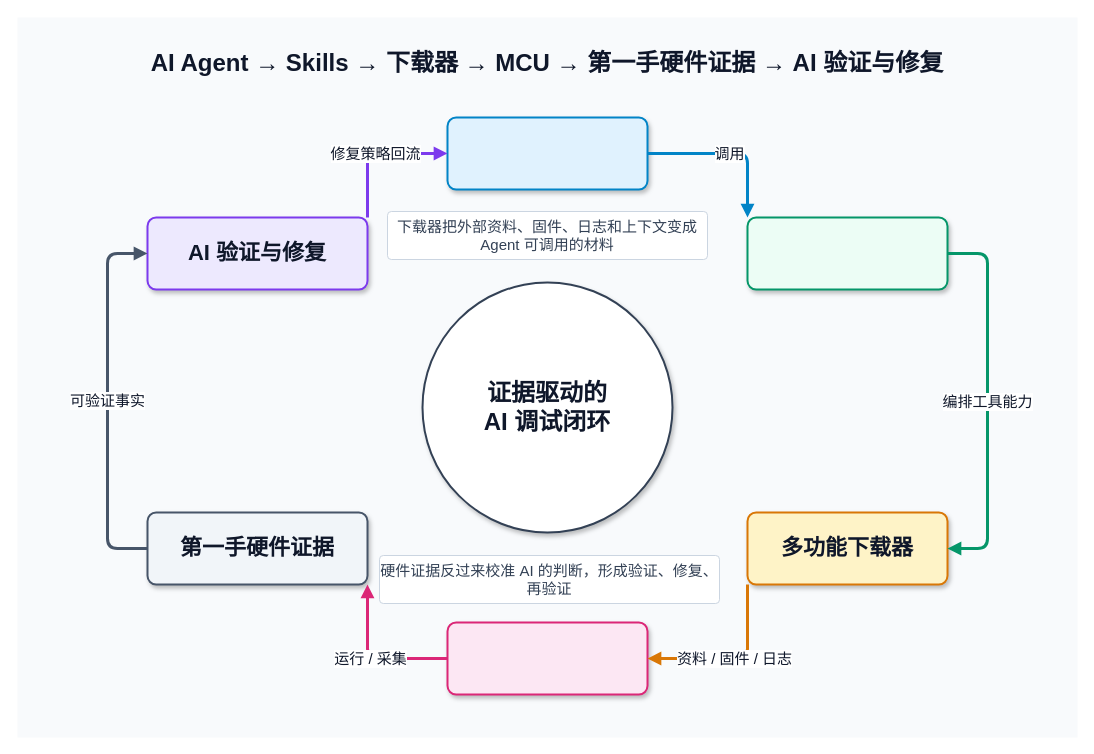
Image size: 1094x754. Some labels were removed from this diagram. Each missing label, with the centre of its shape:
AI Agent: (x=548, y=154)
MCU: (x=548, y=659)
Skills: (x=848, y=254)
